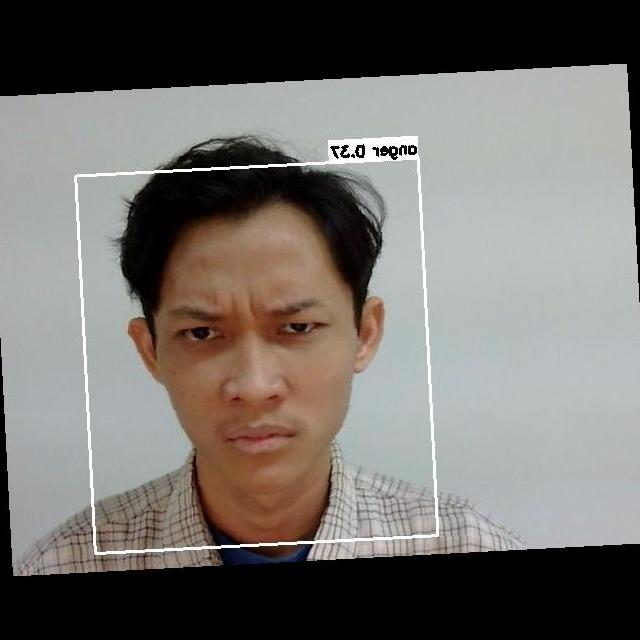Angry: (155, 268, 382, 475)
